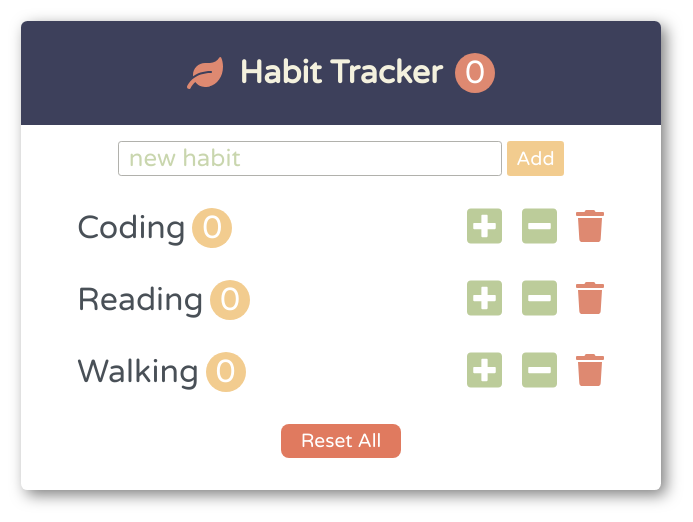
Test case: Habit Tracker › increase count
This screenshot has width=693, height=522.
Click the button titled "increase" in the row of "Coding": (485, 228) [461, 204, 508, 251]
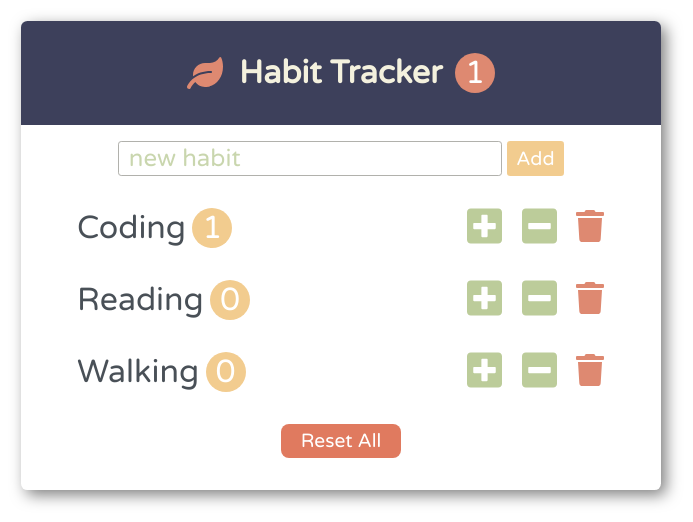
Result: the text with test id "habit-count" next to "Coding" reads "1" at [192, 208, 232, 248]
